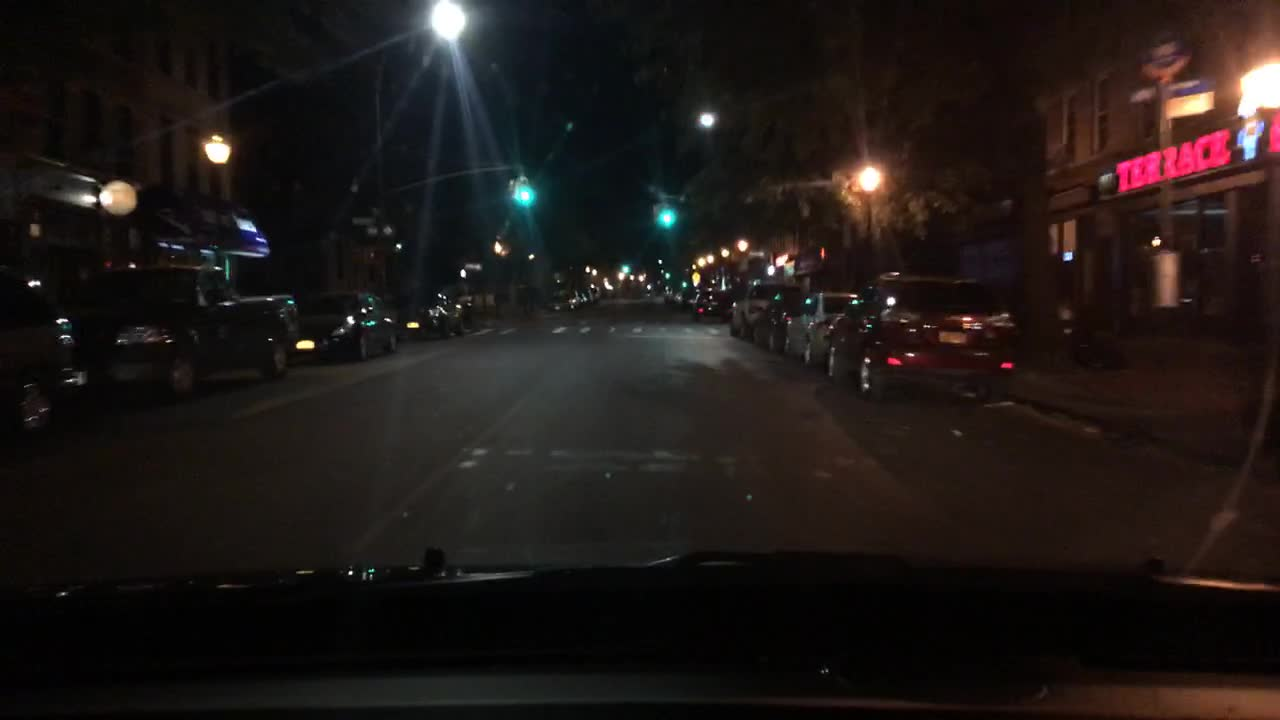car: (45, 254, 298, 403), (825, 269, 1026, 403), (1, 266, 65, 444), (291, 282, 403, 364), (779, 286, 858, 370), (392, 282, 467, 339), (726, 284, 783, 350), (691, 284, 735, 326), (755, 300, 790, 352), (542, 284, 583, 315), (674, 284, 702, 308), (575, 286, 594, 313), (662, 284, 684, 306), (586, 280, 603, 302)
traffic light: (515, 183, 532, 205), (658, 209, 675, 226), (619, 261, 634, 274), (664, 271, 674, 280)
traffic sign: (1131, 15, 1200, 86), (1166, 74, 1215, 117), (1125, 83, 1156, 106), (463, 258, 489, 271), (686, 271, 701, 285)
